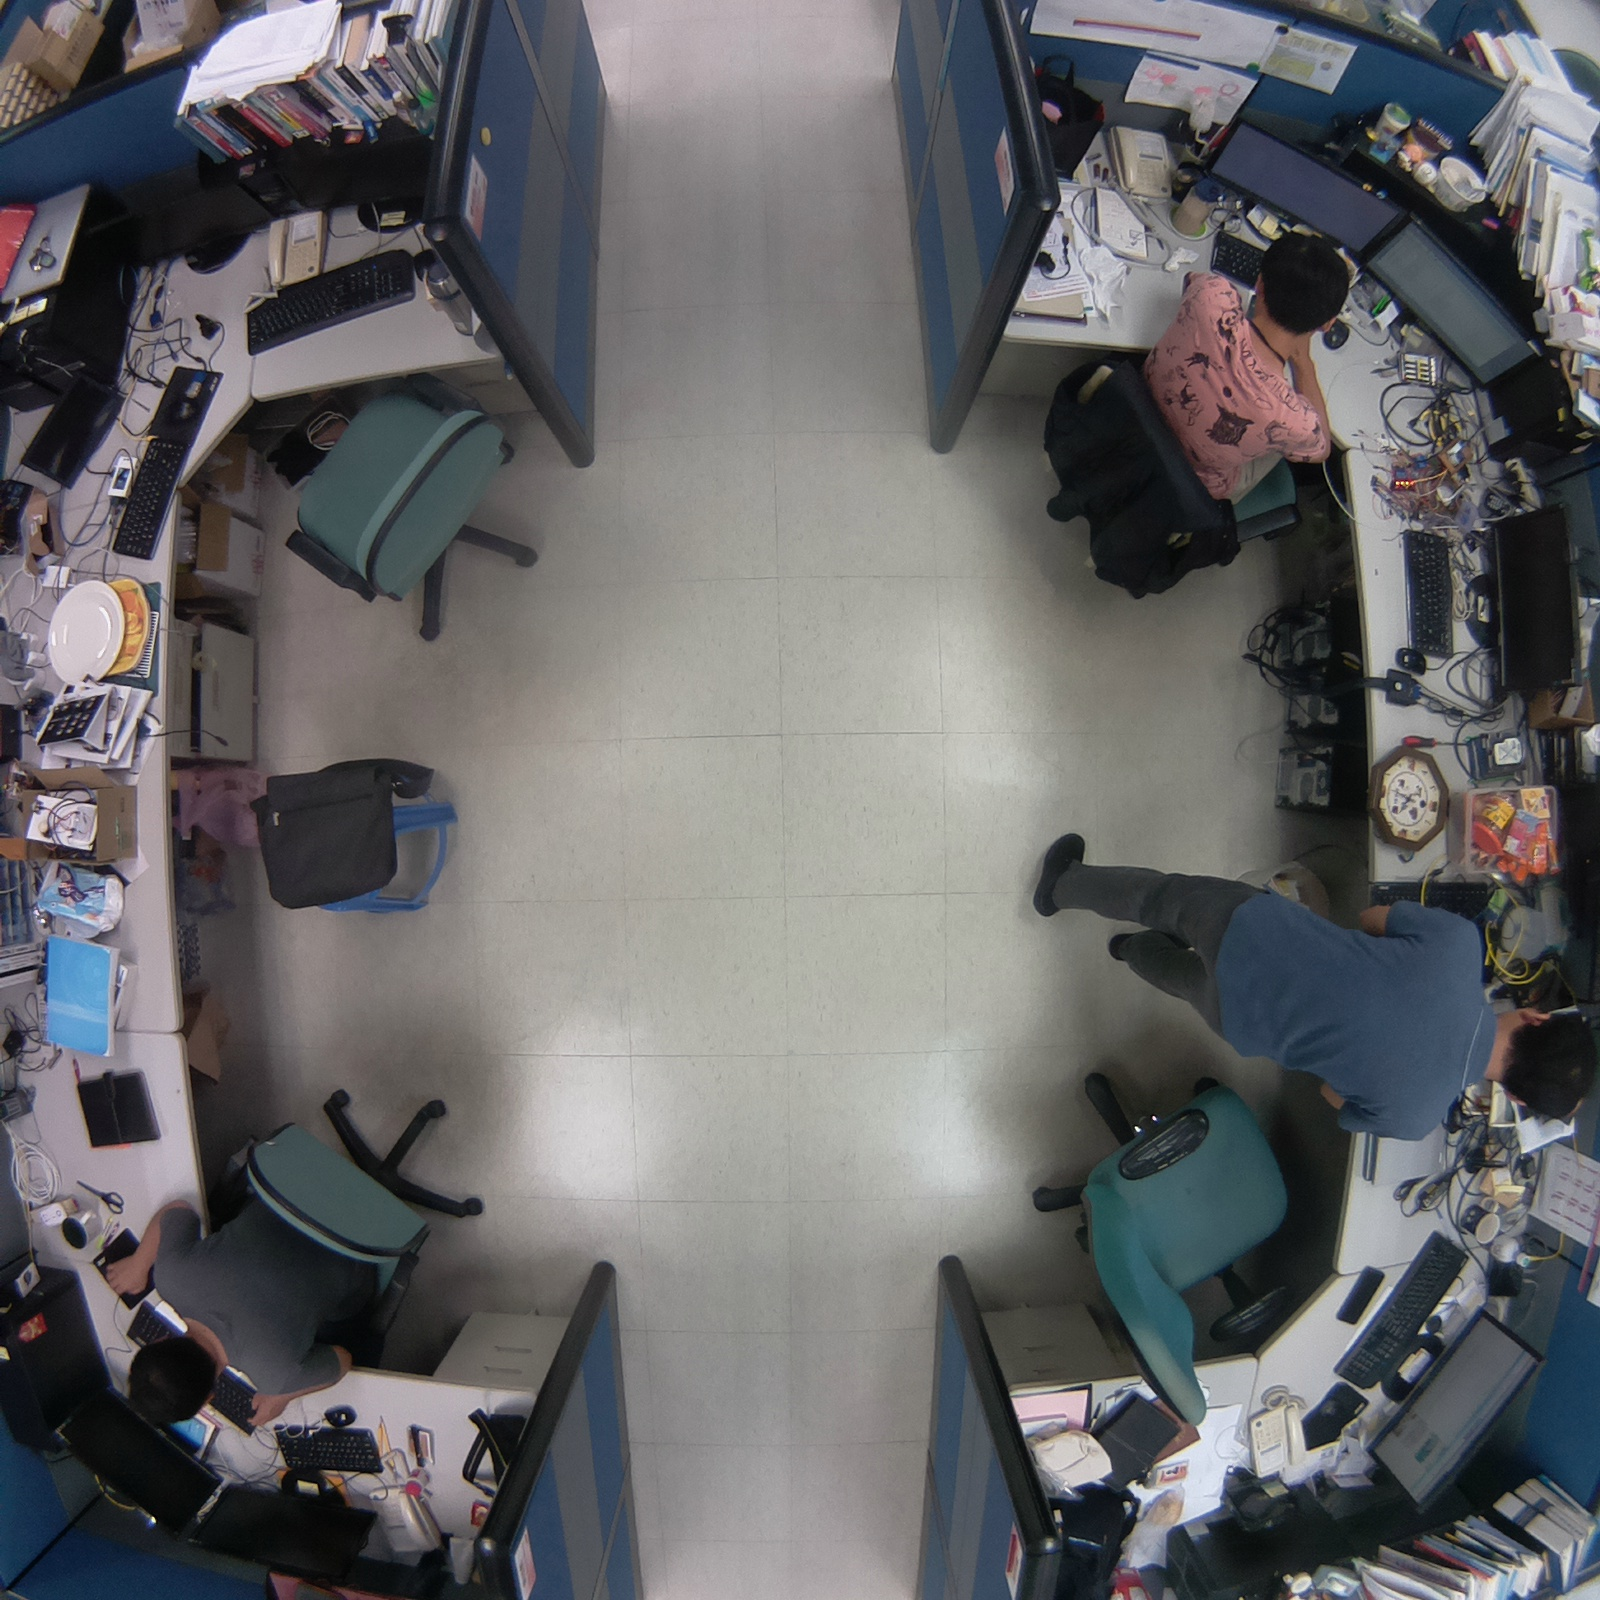chair: (1006, 1040, 1306, 1432), (263, 363, 547, 678)
head: (1503, 1006, 1600, 1126), (1250, 227, 1354, 337), (121, 1335, 223, 1431)
sitting: (94, 1052, 499, 1450), (1024, 199, 1365, 624)
standing: (1024, 819, 1600, 1144)
